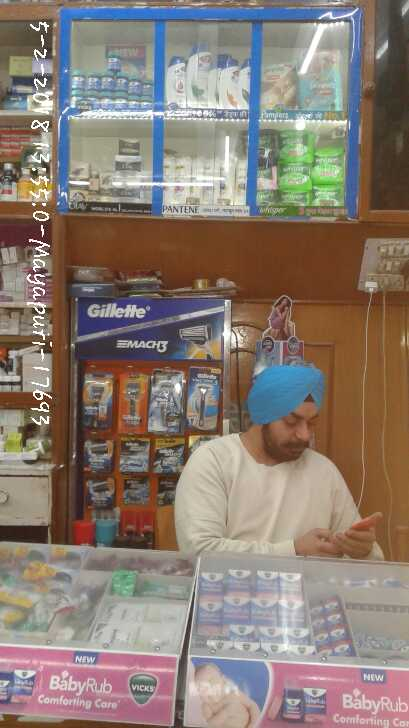vicks: (71, 51, 160, 107)
